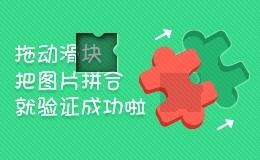target: (54, 12, 96, 52)
